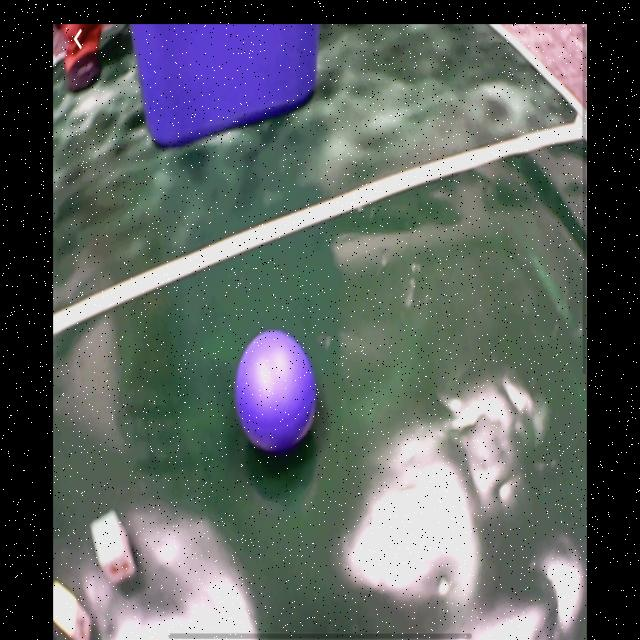ball: (237, 333, 317, 455)
